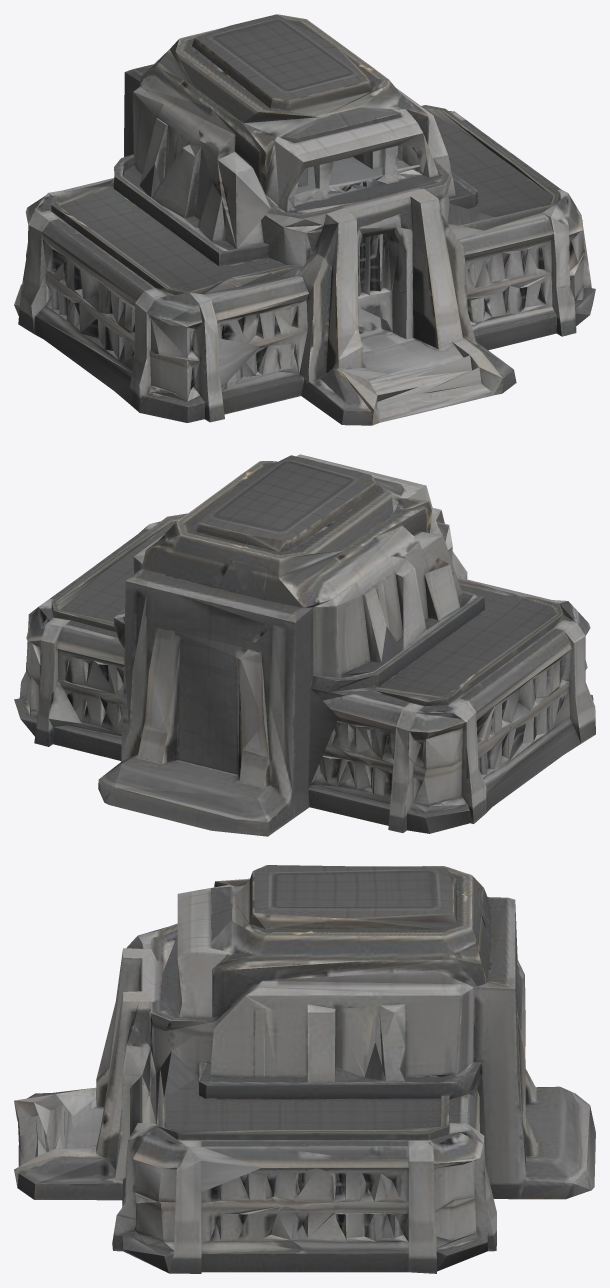
The model's file is imperial_governor_palace_lod2.glb.
The picture shows the model from 3 angles, top to bottom: view 1: azimuth 30°, elevation 25°; view 2: azimuth 150°, elevation 25°; view 3: azimuth 270°, elevation 25°; orthographic projection. The views are drawn at different scales.
Visible parts, largest first — view 1: mesh_node; view 2: mesh_node; view 3: mesh_node.
Boxes of the visible parts, <box> form: mesh_node: <box>14,14,595,425</box>; mesh_node: <box>14,454,595,836</box>; mesh_node: <box>14,865,595,1273</box>.
Bounding box in the file's own units: 36.86 × 18.85 × 37.59.
1 material, 1 textured.
